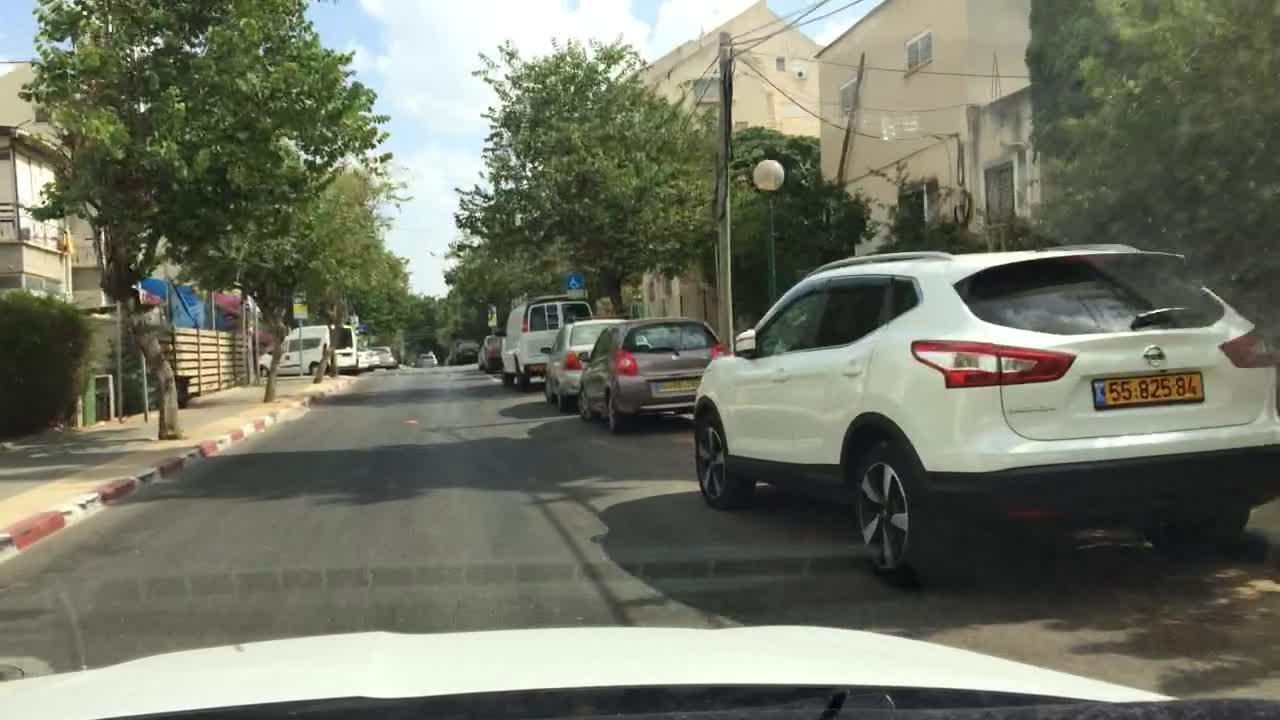Nissan: (1138, 343, 1175, 377)
